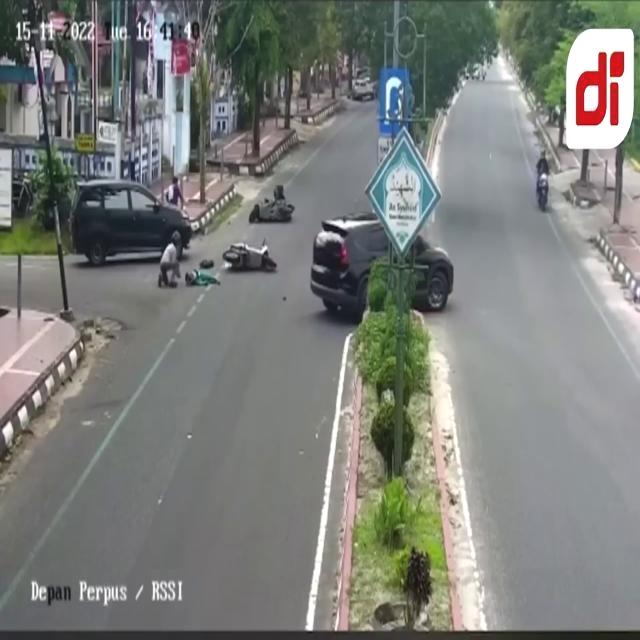accident: (222, 200, 294, 272), (223, 242, 277, 272), (250, 201, 294, 223)
